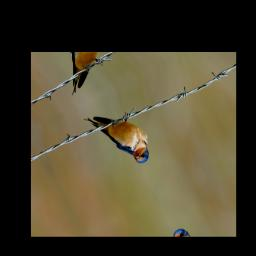Swallow: (83, 96, 158, 179)
